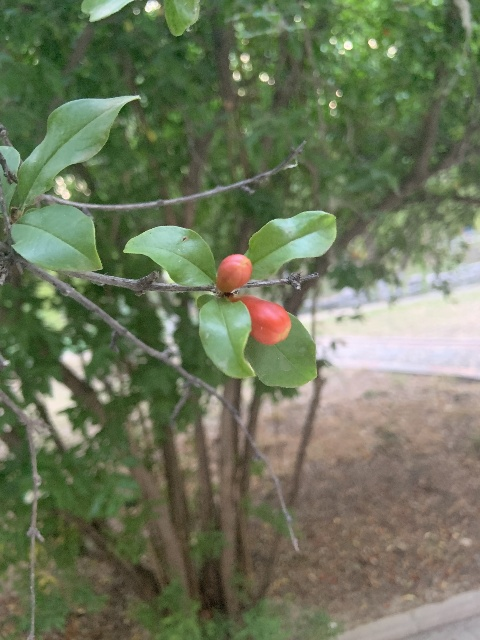bud: (236, 295, 290, 346), (216, 253, 252, 294)
